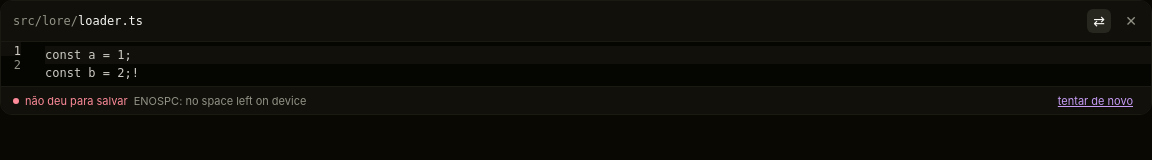
it: os dois caminhos de falha › tenta de novo pelo botão do rodapé, sem esperar a próxima tecla
This screenshot has width=1152, height=160.
Expected: the field with class "cm-content" is shown, [45, 42, 1151, 86]
Expected: the text "não deu para salvar" is shown, [13, 94, 128, 108]
What coordinates should you click on to do the following:
click the button "tentar de novo"
I would click on:
 (1095, 100)
Its box is [1052, 92, 1139, 108].
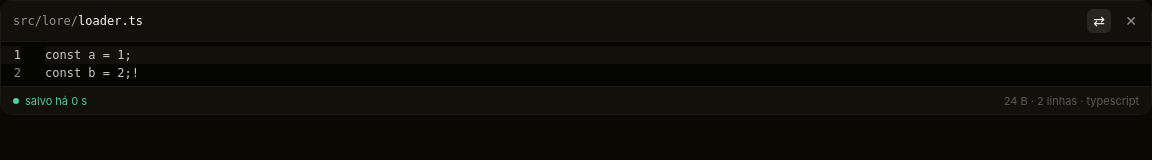
Expected: the text "salvo há 0 s" is shown, [13, 94, 87, 108]
